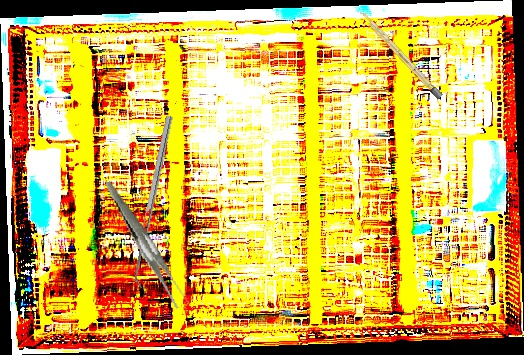Dressing Forceps: (105, 170, 190, 318)
Scalpel Handle: (358, 9, 443, 100)
Spatula Surgical: (130, 115, 179, 289)
